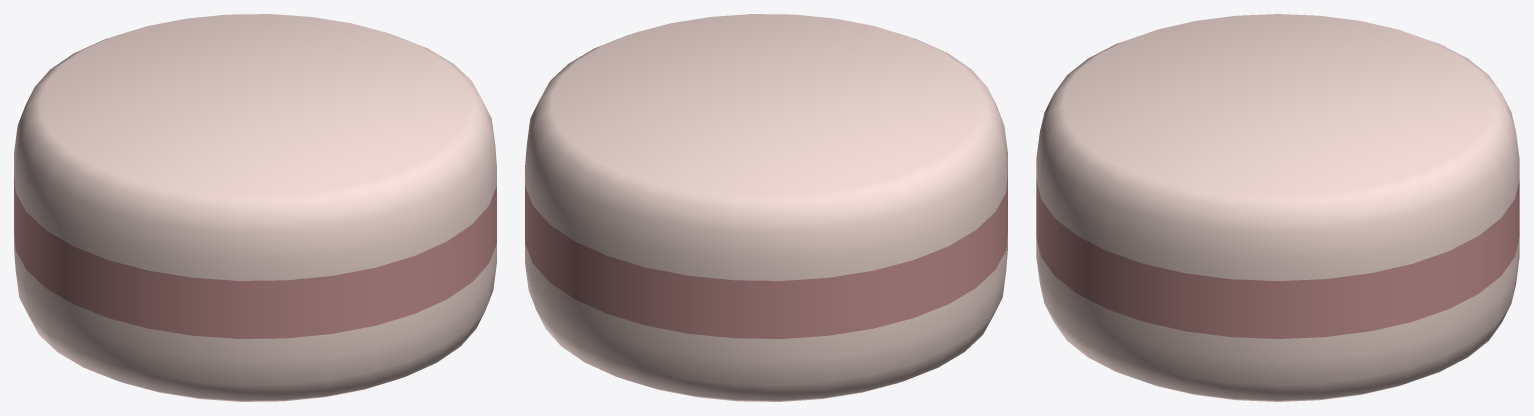
File: Simple strawberry.fbx
The picture shows the model from 3 angles, left to right: view 1: azimuth 30°, elevation 25°; view 2: azimuth 150°, elevation 25°; view 3: azimuth 270°, elevation 25°; orthographic projection.
Visible parts, largest first — view 1: Simple strawberry.001; view 2: Simple strawberry.001; view 3: Simple strawberry.001.
Part boxes in pixels (bbox=[...]): Simple strawberry.001: bbox=[14, 14, 496, 401]; Simple strawberry.001: bbox=[525, 14, 1007, 401]; Simple strawberry.001: bbox=[1036, 14, 1519, 401].
Bounding box in the file's own units: 184 × 86.63 × 184.
